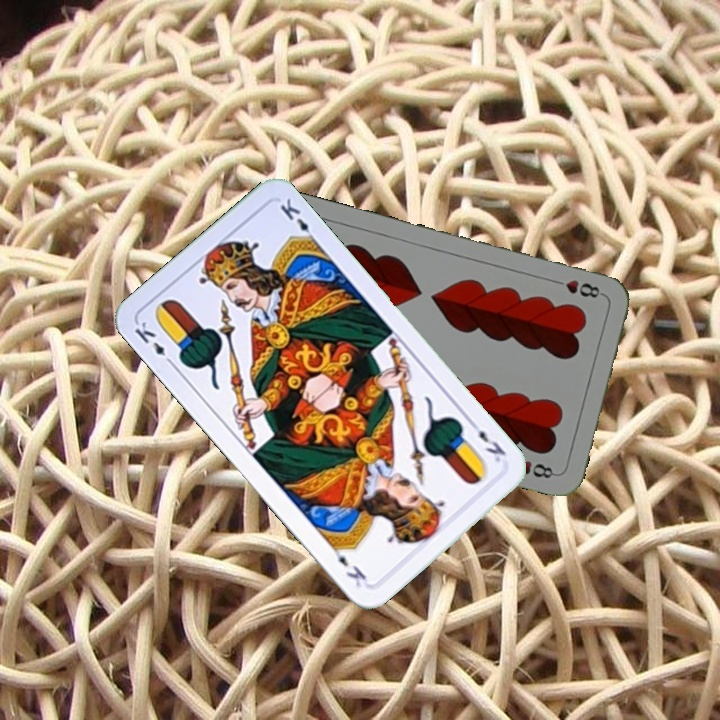EK: (130, 317, 177, 369), (465, 416, 509, 465)
H8: (548, 275, 606, 301)
